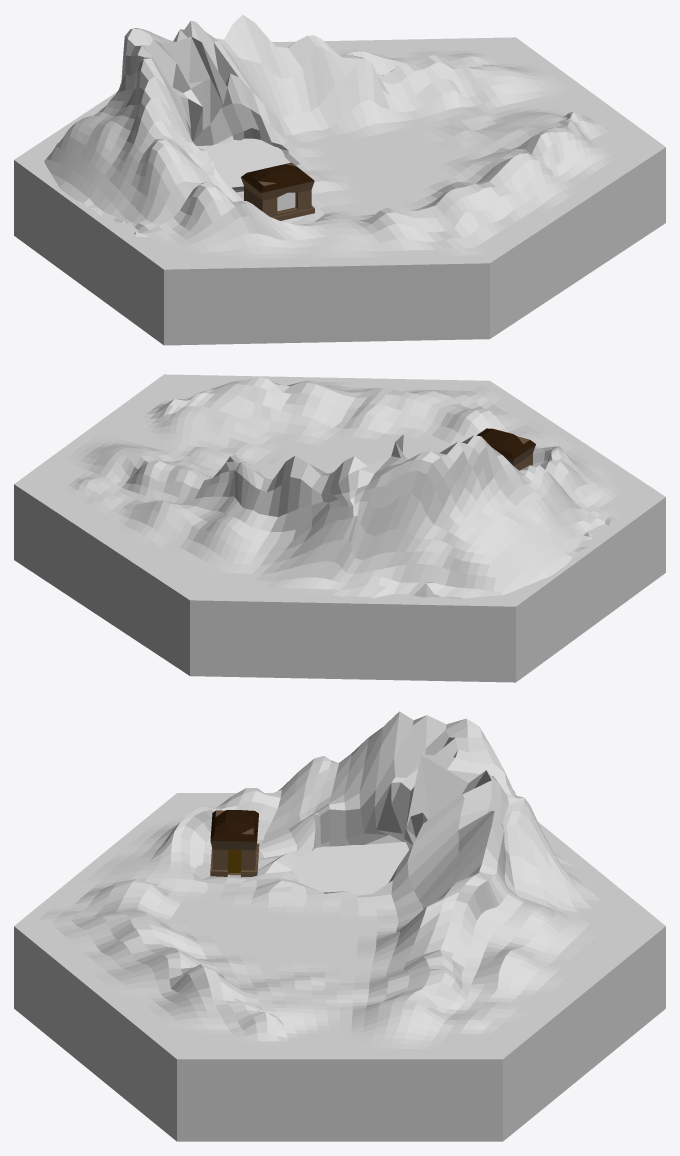
The model's file is Hills.fbx.
3 renders of one model, top to bottom at view 1: azimuth 30°, elevation 25°; view 2: azimuth 150°, elevation 25°; view 3: azimuth 270°, elevation 25°, orthographic. The views are drawn at different scales.
Visible parts, largest first — view 1: Plane, Hexagon, cASA, Lake; view 2: Plane, Hexagon, cASA; view 3: Plane, Hexagon, Lake, cASA.
Part boxes in pixels (x1,y1,x2,y2): Plane: (44,14,646,261); Hexagon: (14,37,665,345); cASA: (241,162,314,220); Lake: (203,138,289,187); Plane: (32,377,647,598); Hexagon: (14,374,665,682); cASA: (476,428,535,470); Plane: (32,711,647,1049); Hexagon: (14,793,665,1141); Lake: (291,842,408,895); cASA: (210,810,259,877).
Bounding box in the file's own units: 346 × 128 × 359.
